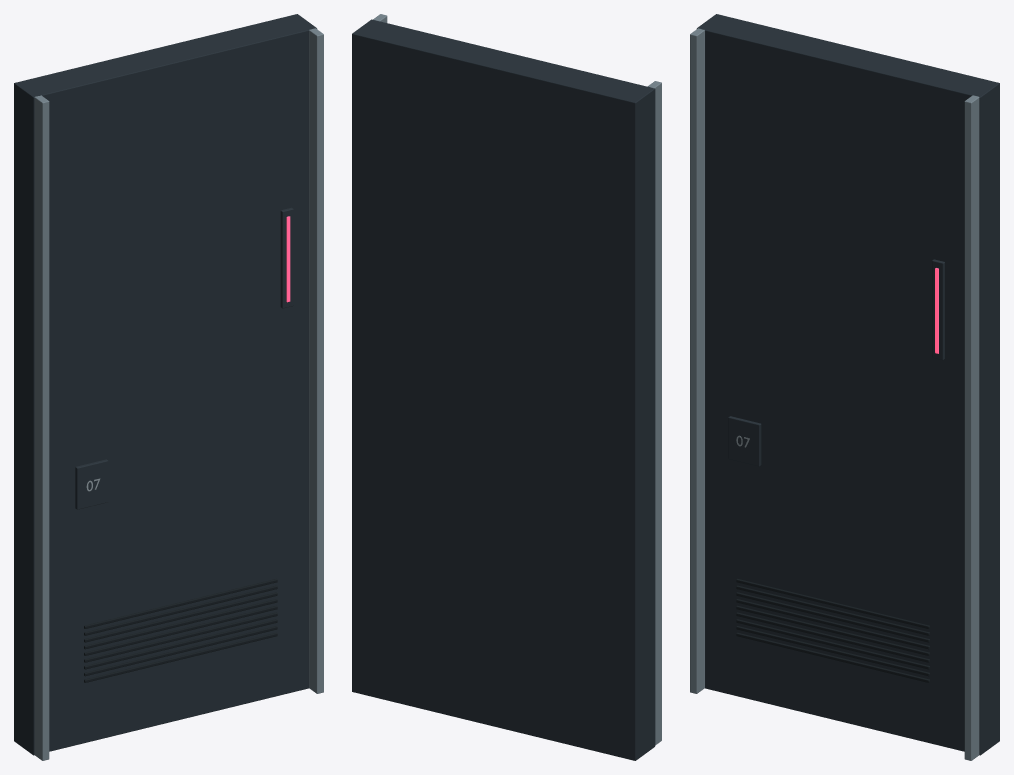
The model's file is SM_Lab_WallBay.fbx.
The picture shows the model from 3 angles, left to right: view 1: azimuth 30°, elevation 25°; view 2: azimuth 150°, elevation 25°; view 3: azimuth 330°, elevation 25°; orthographic projection.
Parts seen in each view (by area): view 1: SM_Lab_WallBay; view 2: SM_Lab_WallBay; view 3: SM_Lab_WallBay.
Part boxes in pixels (x1=…): SM_Lab_WallBay: x1=14, y1=14, x2=323, y2=760; SM_Lab_WallBay: x1=352, y1=14, x2=661, y2=760; SM_Lab_WallBay: x1=690, y1=14, x2=999, y2=760.
Bounding box in the file's own units: 199 × 33.5 × 440.
